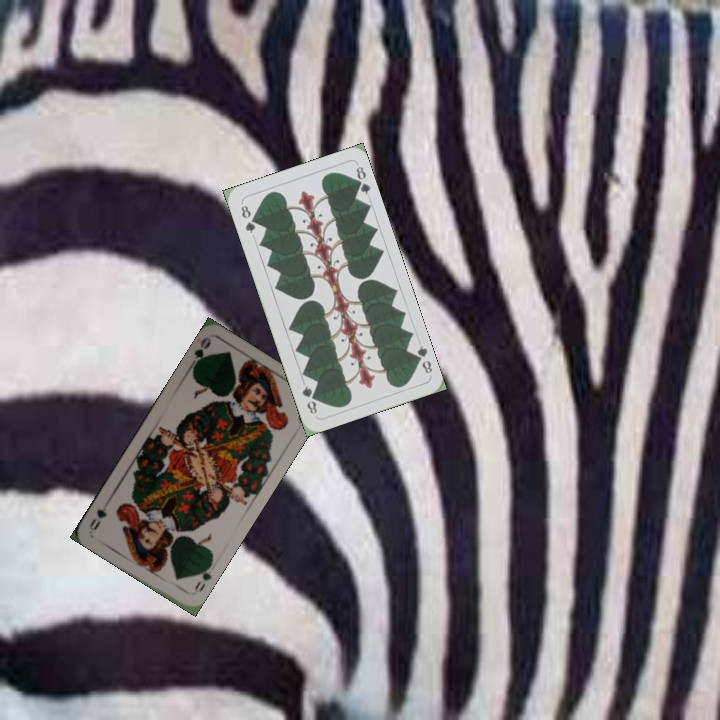G8: (409, 342, 435, 376), (237, 201, 258, 236)
GO: (185, 334, 214, 373), (187, 560, 215, 597)
